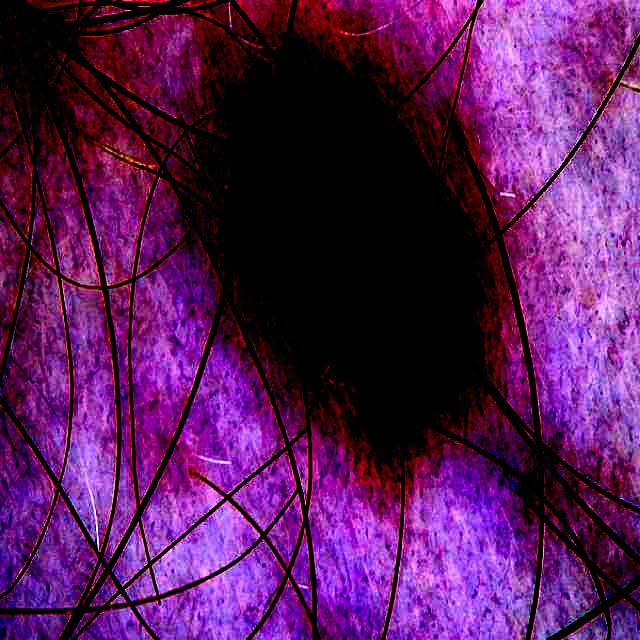NV: (244, 117, 471, 415), (274, 64, 387, 139)
